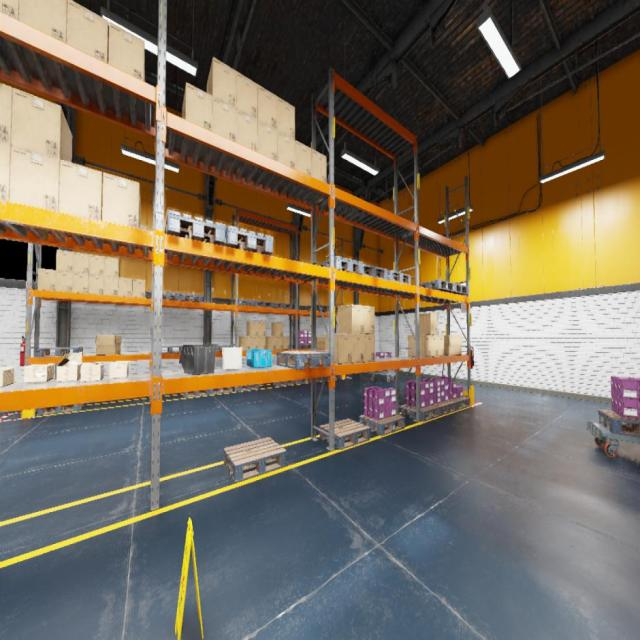box: (11, 88, 72, 162), (9, 146, 60, 211), (58, 159, 103, 220), (67, 0, 109, 63), (108, 22, 145, 81), (102, 172, 140, 228), (19, 0, 67, 43), (207, 56, 236, 108), (182, 81, 212, 130), (212, 96, 236, 142), (236, 71, 258, 120), (236, 109, 258, 152), (258, 85, 278, 130), (325, 333, 352, 364), (257, 120, 277, 160), (56, 352, 82, 382), (0, 82, 12, 144), (338, 304, 363, 333), (278, 97, 295, 139), (0, 142, 11, 201), (278, 131, 295, 169), (24, 364, 54, 384), (296, 140, 311, 176), (95, 335, 122, 354), (312, 149, 327, 183), (415, 312, 438, 334), (408, 335, 430, 357), (80, 363, 104, 382), (37, 268, 56, 291), (0, 0, 19, 20), (72, 272, 89, 294), (56, 270, 73, 292), (56, 250, 73, 272), (444, 335, 462, 355), (73, 252, 89, 274), (352, 334, 364, 363), (88, 274, 104, 295), (89, 254, 104, 275), (104, 257, 120, 276), (110, 362, 128, 378), (364, 306, 374, 334), (364, 334, 374, 362), (132, 278, 146, 298), (0, 367, 14, 386), (104, 276, 118, 295), (119, 278, 132, 297), (238, 336, 250, 351), (431, 335, 438, 357), (247, 322, 258, 336), (437, 335, 444, 356), (266, 336, 276, 350), (272, 323, 282, 336), (316, 336, 325, 349), (258, 322, 266, 336), (180, 223, 187, 238), (282, 336, 290, 349), (258, 336, 266, 349), (250, 336, 258, 349), (276, 336, 282, 350), (186, 225, 192, 238), (140, 224, 148, 229), (208, 231, 211, 233)
pallets: (224, 438, 286, 483), (165, 210, 225, 245), (320, 419, 370, 450), (223, 225, 273, 255), (598, 410, 640, 437), (277, 351, 331, 370), (360, 414, 404, 436), (317, 256, 363, 274), (401, 404, 441, 422), (352, 264, 387, 279), (37, 404, 84, 415), (378, 270, 411, 285), (36, 347, 83, 357), (420, 279, 454, 292), (434, 400, 456, 416), (448, 397, 471, 410), (445, 283, 468, 295), (180, 292, 203, 302), (182, 390, 209, 398), (210, 387, 232, 395), (162, 346, 183, 354), (234, 299, 256, 306), (237, 384, 259, 391), (162, 292, 180, 300), (308, 304, 328, 311), (272, 380, 295, 386), (255, 301, 274, 308), (274, 302, 293, 308), (293, 344, 311, 350), (216, 346, 233, 352), (296, 378, 310, 384), (325, 306, 337, 312), (317, 376, 328, 382), (373, 370, 394, 373), (336, 375, 342, 379)
